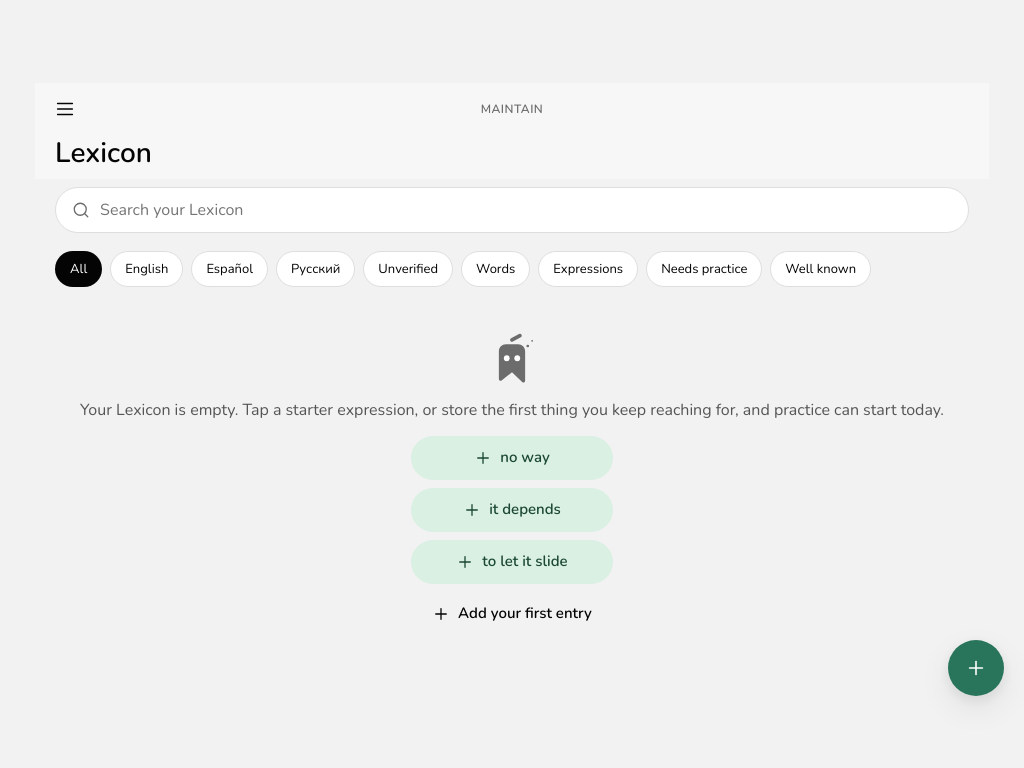
the Lexicon › offers three one-tap starter expressions when it is empty
Expected: the text "Your Lexicon is empty." is shown, [80,399,944,421]
Expected: the button "it depends" is shown, [411,488,613,532]
What coordinates should you click on to do the following:
click the button "no way"
I would click on:
 (512, 458)
Its box is [411,436,613,480].
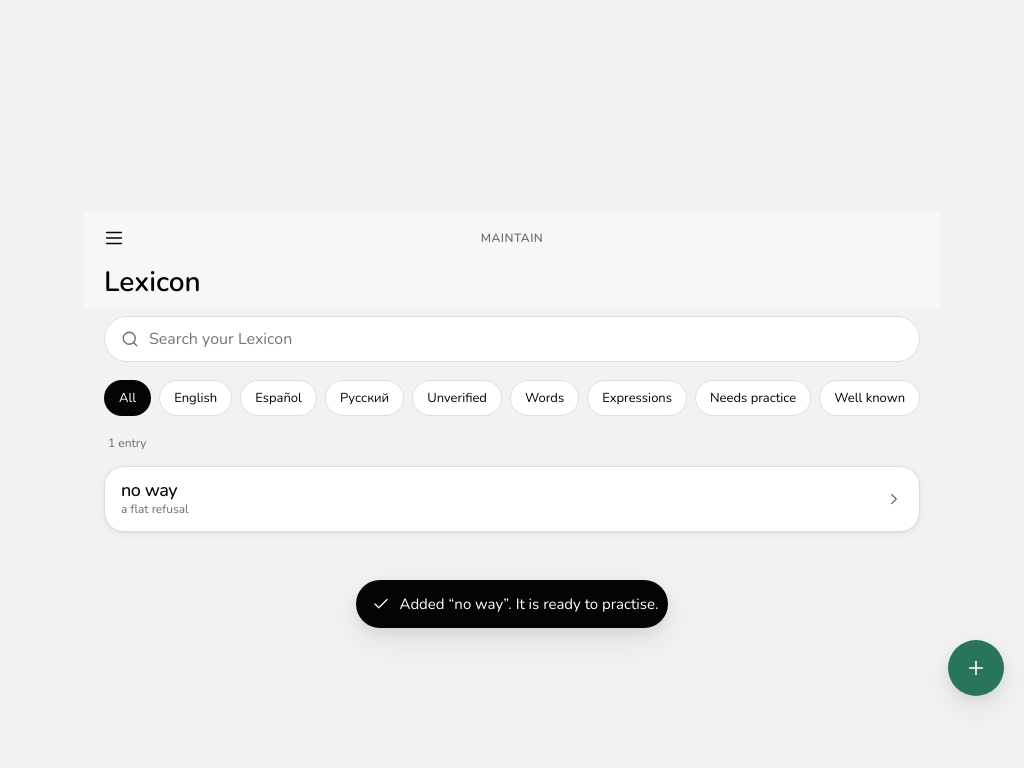
Result: the text "1 entry" is shown at [108,435,146,451]
Result: the text "Your Lexicon is empty." is gone
